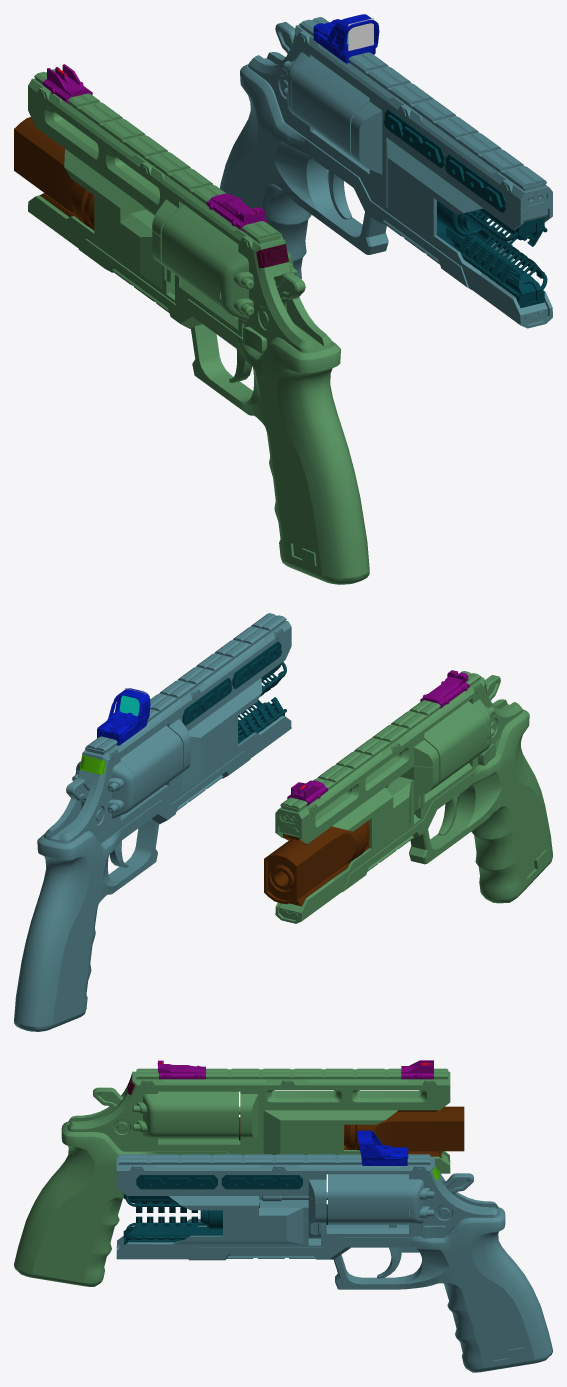
Rendered from Reaper.FBX.
3 views of the same model, one above another, from view 1: azimuth 30°, elevation 25°; view 2: azimuth 150°, elevation 25°; view 3: azimuth 270°, elevation 25° (orthographic). The views are drawn at different scales.
Visible parts, largest first — view 1: Receiver_2, Receiver_1, RailGunBarrelSF, Drum, SuppressorBarrelSf, IronSightSf, CollimatorSf; view 2: Receiver_2, Receiver_1, SuppressorBarrelSf, RailGunBarrelSF, Drum, CollimatorSf, IronSightSf; view 3: Receiver_1, Receiver_2, RailGunBarrelSF, SuppressorBarrelSf, Drum, IronSightSf, CollimatorSf, Extractor.
Boxes of the visible parts, box(x1,y1,x2,y2) form: Receiver_2: box(28, 69, 369, 584); Receiver_1: box(219, 17, 552, 328); RailGunBarrelSF: box(383, 109, 547, 307); Drum: box(292, 56, 369, 158); SuppressorBarrelSf: box(14, 117, 94, 230); IronSightSf: box(42, 64, 266, 231); CollimatorSf: box(313, 14, 379, 63); Receiver_2: box(275, 671, 552, 923); Receiver_1: box(14, 613, 291, 1031); SuppressorBarrelSf: box(264, 776, 400, 906); RailGunBarrelSF: box(182, 641, 286, 743); Drum: box(120, 725, 182, 807); CollimatorSf: box(97, 688, 150, 745); IronSightSf: box(287, 670, 469, 805); Receiver_1: box(116, 1154, 552, 1372); Receiver_2: box(14, 1068, 450, 1286); RailGunBarrelSF: box(123, 1175, 327, 1244); SuppressorBarrelSf: box(239, 1106, 464, 1158); Drum: box(328, 1174, 408, 1224); IronSightSf: box(158, 1060, 433, 1079); CollimatorSf: box(358, 1130, 408, 1165); Extractor: box(261, 1192, 327, 1238).
Size of the model in its own units: 14.29 by 14.39 by 29.84.
